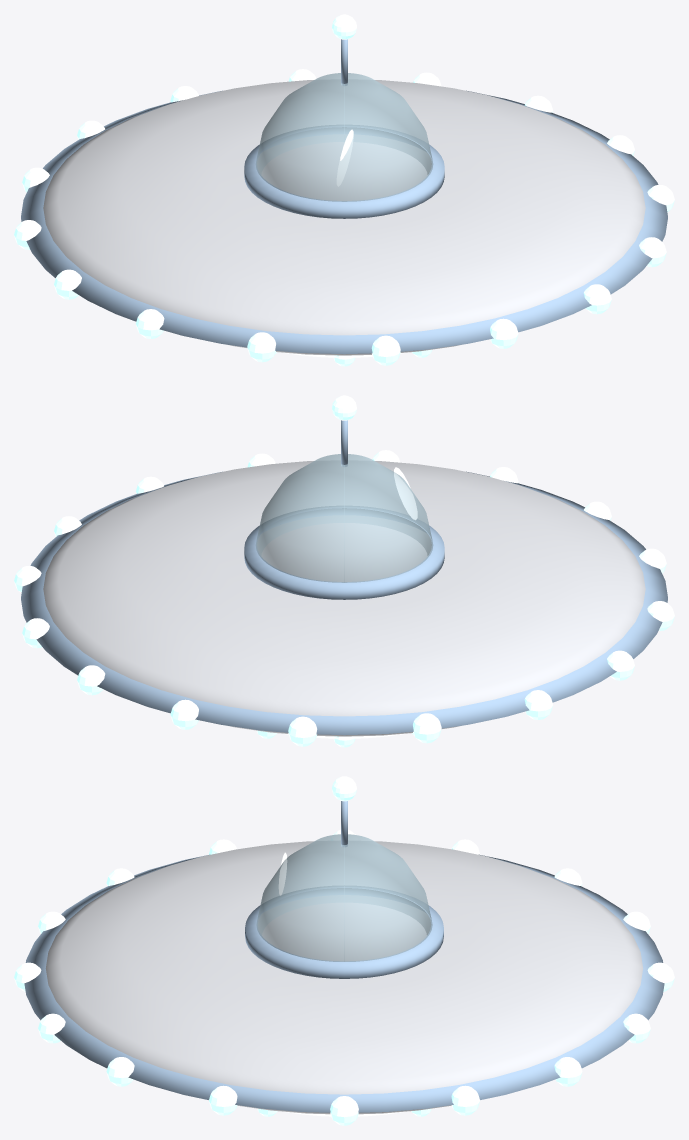
The model's file is EventUFO.glb.
3 renders of one model, top to bottom at view 1: azimuth 30°, elevation 25°; view 2: azimuth 150°, elevation 25°; view 3: azimuth 270°, elevation 25°, orthographic.
Parts seen in each view (by area): view 1: EventUFO_disc, EventUFO_dome, EventUFO_trim, EventUFO_rimlights, EventUFO_domering; view 2: EventUFO_disc, EventUFO_dome, EventUFO_trim, EventUFO_rimlights, EventUFO_domering, EventUFO_dome_glanz; view 3: EventUFO_disc, EventUFO_dome, EventUFO_trim, EventUFO_rimlights, EventUFO_domering.
Boxes of the visible parts, x1,y1,x2,y2 form: EventUFO_disc: [43, 80, 645, 355]; EventUFO_dome: [255, 73, 433, 201]; EventUFO_trim: [21, 90, 667, 354]; EventUFO_rimlights: [14, 69, 674, 365]; EventUFO_domering: [244, 125, 444, 218]; EventUFO_disc: [43, 461, 645, 736]; EventUFO_dome: [255, 454, 433, 582]; EventUFO_trim: [21, 471, 667, 735]; EventUFO_rimlights: [14, 450, 674, 746]; EventUFO_domering: [244, 506, 444, 599]; EventUFO_dome_glanz: [394, 467, 417, 519]; EventUFO_disc: [45, 841, 643, 1114]; EventUFO_dome: [256, 834, 432, 961]; EventUFO_trim: [24, 854, 664, 1112]; EventUFO_rimlights: [14, 829, 674, 1125]; EventUFO_domering: [245, 886, 443, 978].
Size of the model in its own units: 41.9 by 19.75 by 41.9.
